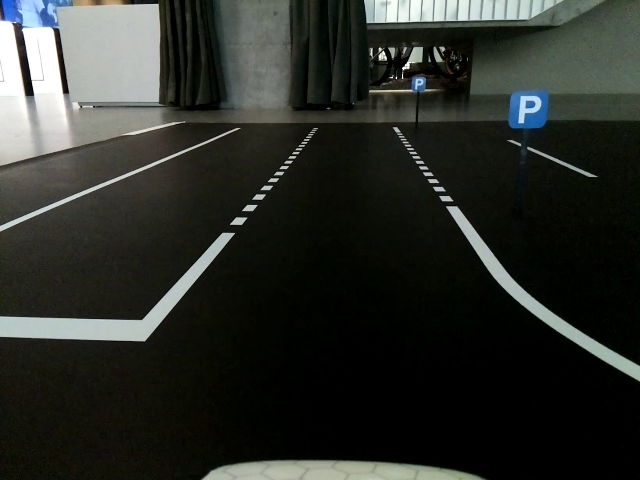park: (506, 90, 547, 129), (413, 77, 426, 90)
